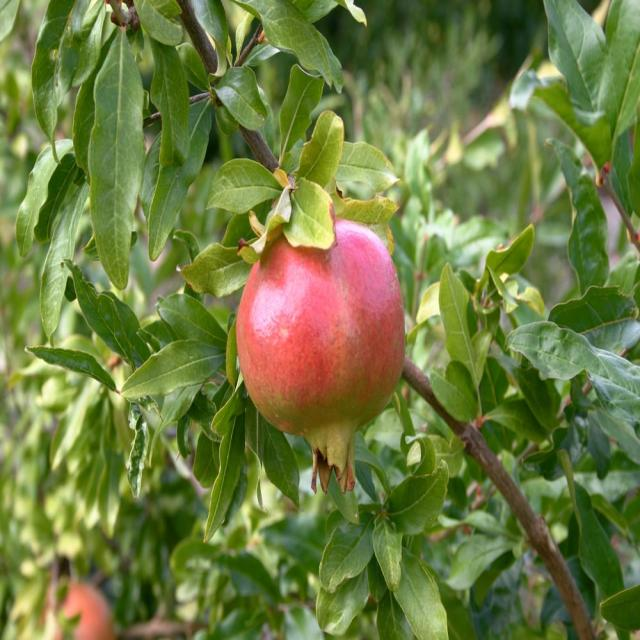Pomegranate: (236, 211, 407, 497)
